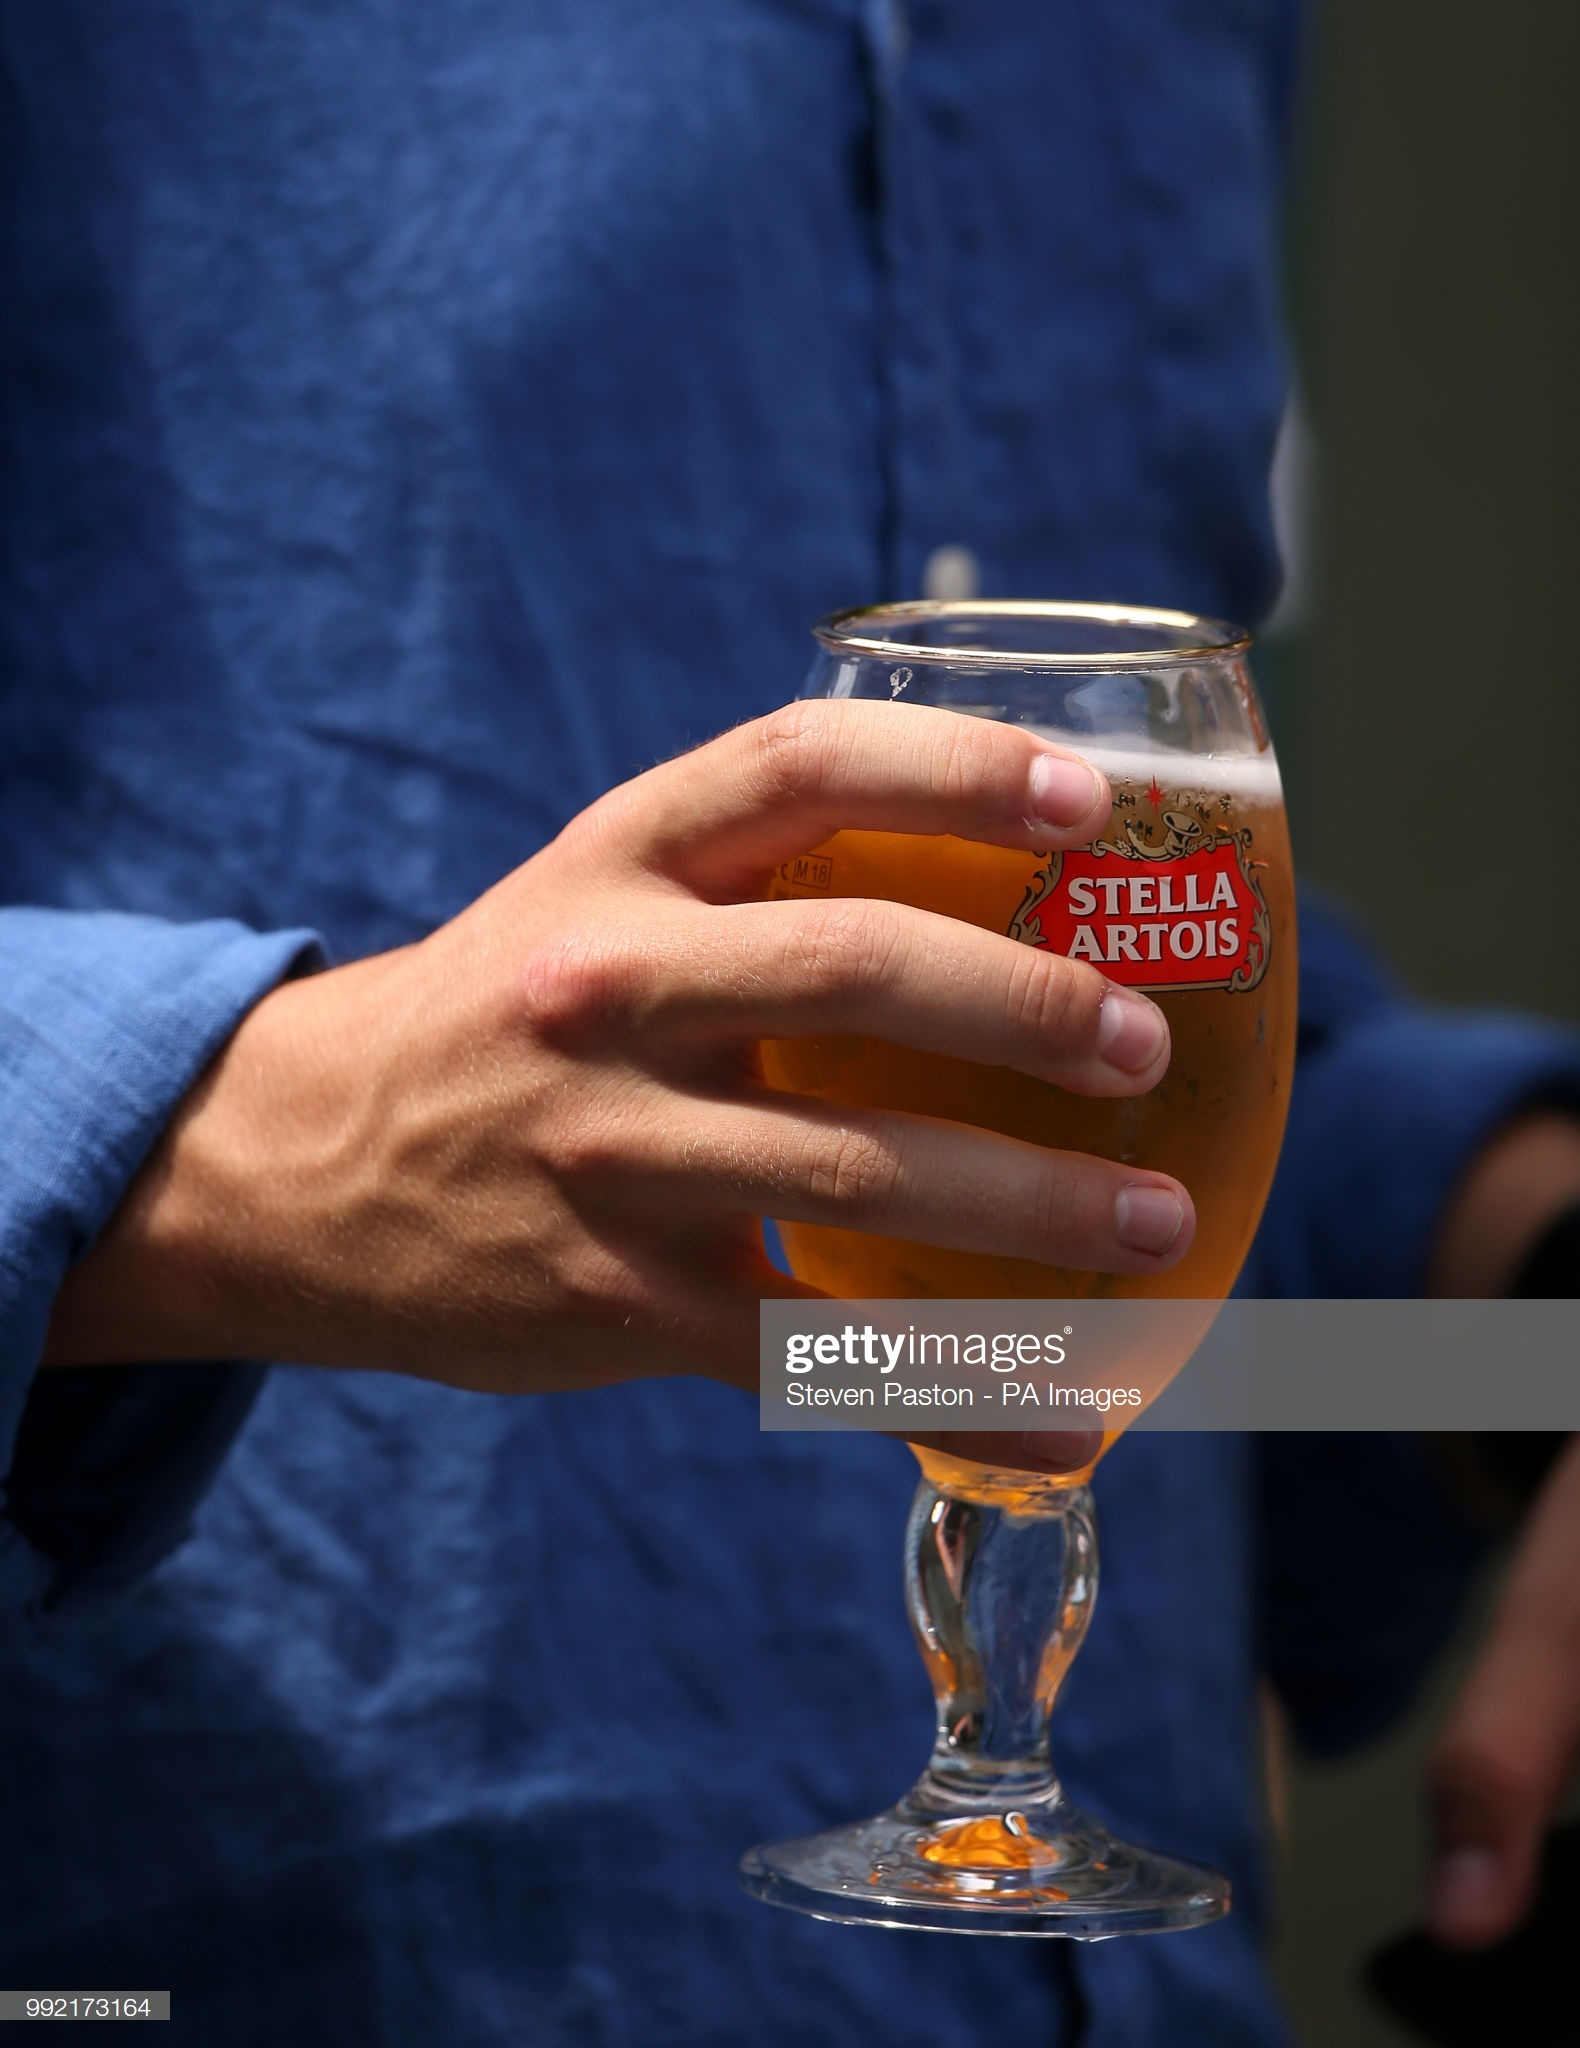glassBeer: (719, 621, 1316, 1859)
